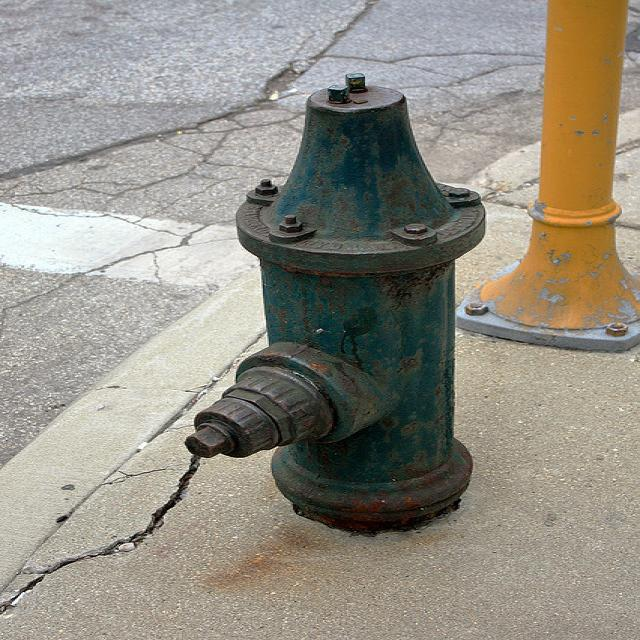fire_hydrant: (191, 82, 497, 539)
